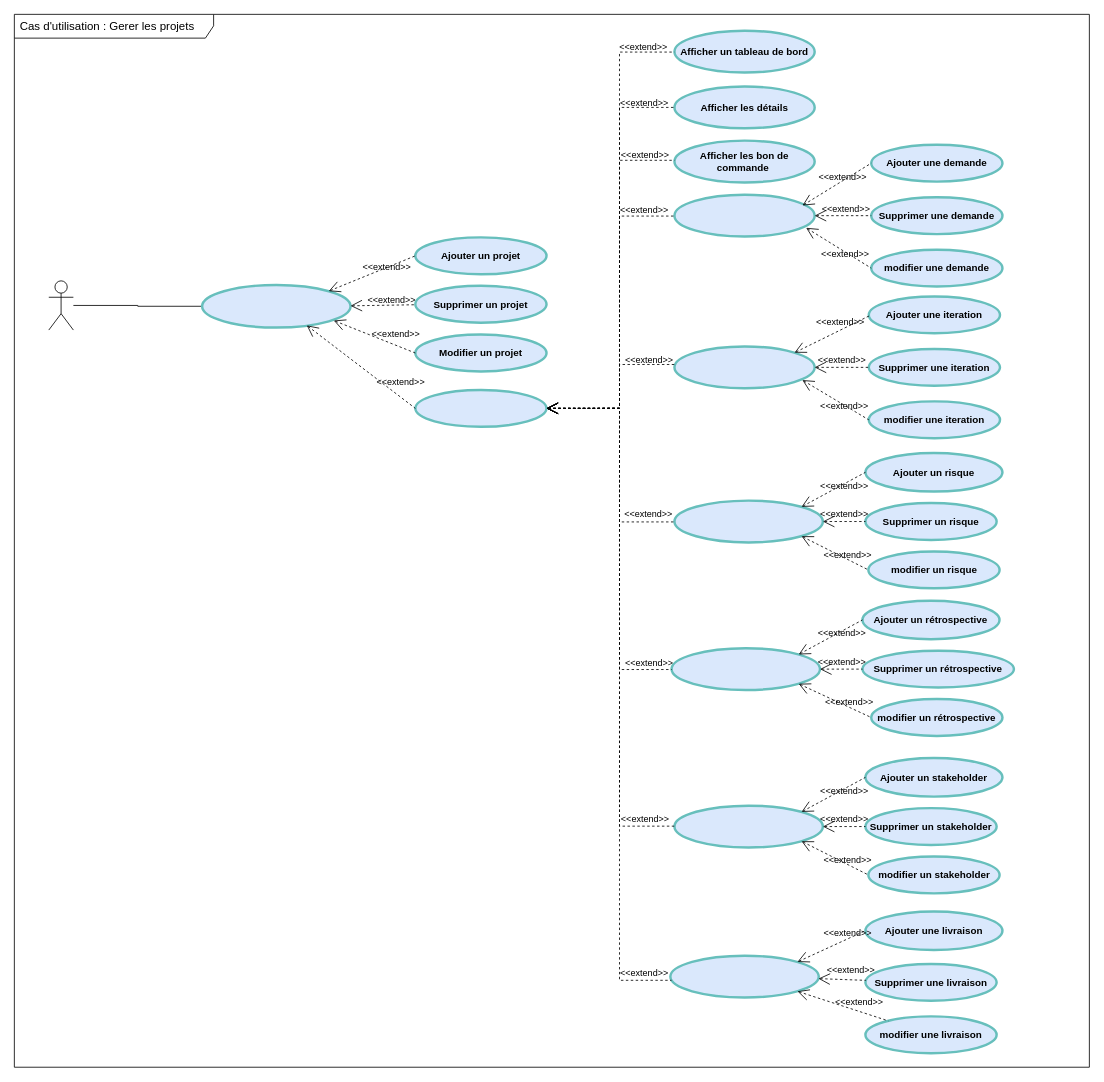
Image size: 1104x1082. Some labels were removed from this diagram. The shapes that lost their labels are listed below. From the top down, each one's centre as x and y in pixels, then its label:
At point (744, 215): "Consulter les demandes de changements".
At point (60, 305): "Administrateur".
At point (275, 305): "Consulter la liste des projets".
At point (744, 367): "Consulter les iterations".
At point (480, 408): "Consulter un projet".
At point (748, 521): "Consulter les risques".
At point (745, 669): "Consulter les rétrospectives".
At point (748, 826): "Consulter les stakeholders".
At point (744, 976): "Consulter les livraison".
